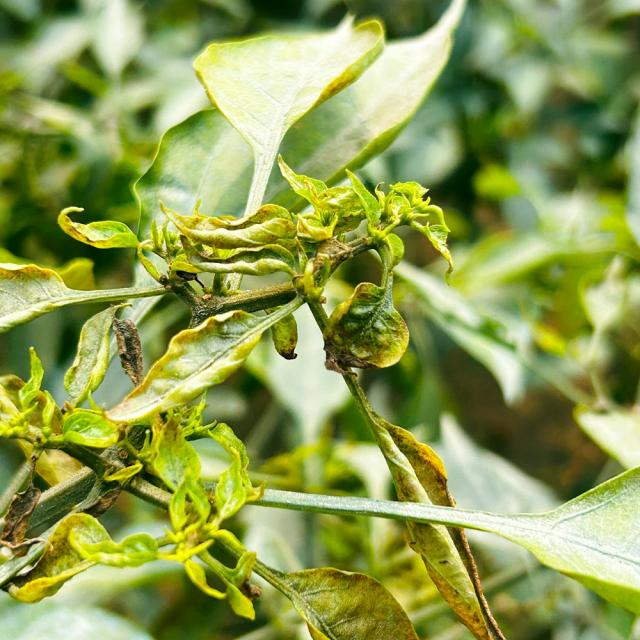Chilli_Leaf_Curl: (1, 3, 637, 638), (156, 153, 455, 373), (339, 370, 505, 638), (190, 11, 387, 219), (102, 295, 300, 426), (321, 280, 410, 373)
